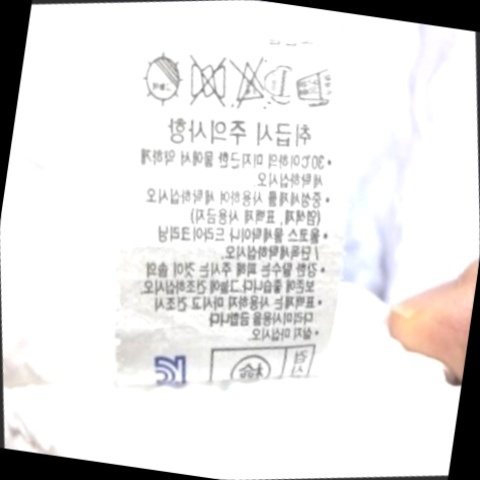DN_wring: (173, 45, 238, 115)
dry_clean: (257, 58, 303, 106)
hand_wash: (284, 53, 347, 115)
non_chlorine_bleach: (220, 47, 277, 113)
shade_dry: (126, 41, 196, 118)
